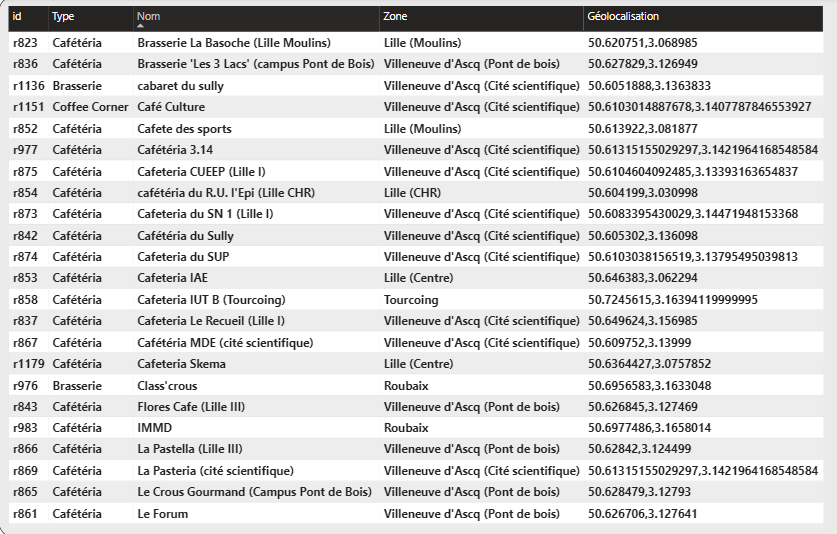

This screenshot's page, from the dashboard's own definition file:
{"tool":"powerbi","page":{"name":"Tableau déscriptif","canvas":[1280,720],"ordinal":0},"visuals":[{"type":"tableEx","fields":{"Values":["ensemble-des-lieux-de-restauration-des-crous.id","ensemble-des-lieux-de-restauration-des-crous.Type","ensemble-des-lieux-de-restauration-des-crous.Nom","ensemble-des-lieux-de-restauration-des-crous.Zone","ensemble-des-lieux-de-restauration-des-crous.Géolocalisation"]},"box":[30.3,0,1249.7,681.7],"z":0}]}

Visuals, with their boxes on the page's 1280x720 design canvas (x1, y1, x2, y2). These are canvas units, not pixel positions in the 837x534 screenshot, which may show the page scaled, cropped or inside an application window:
tableEx - ensemble-des-lieux-de-restauration-des-crous.id x ensemble-des-lieux-de-restauration-des-crous.Type: rect(30, 0, 1280, 682)
